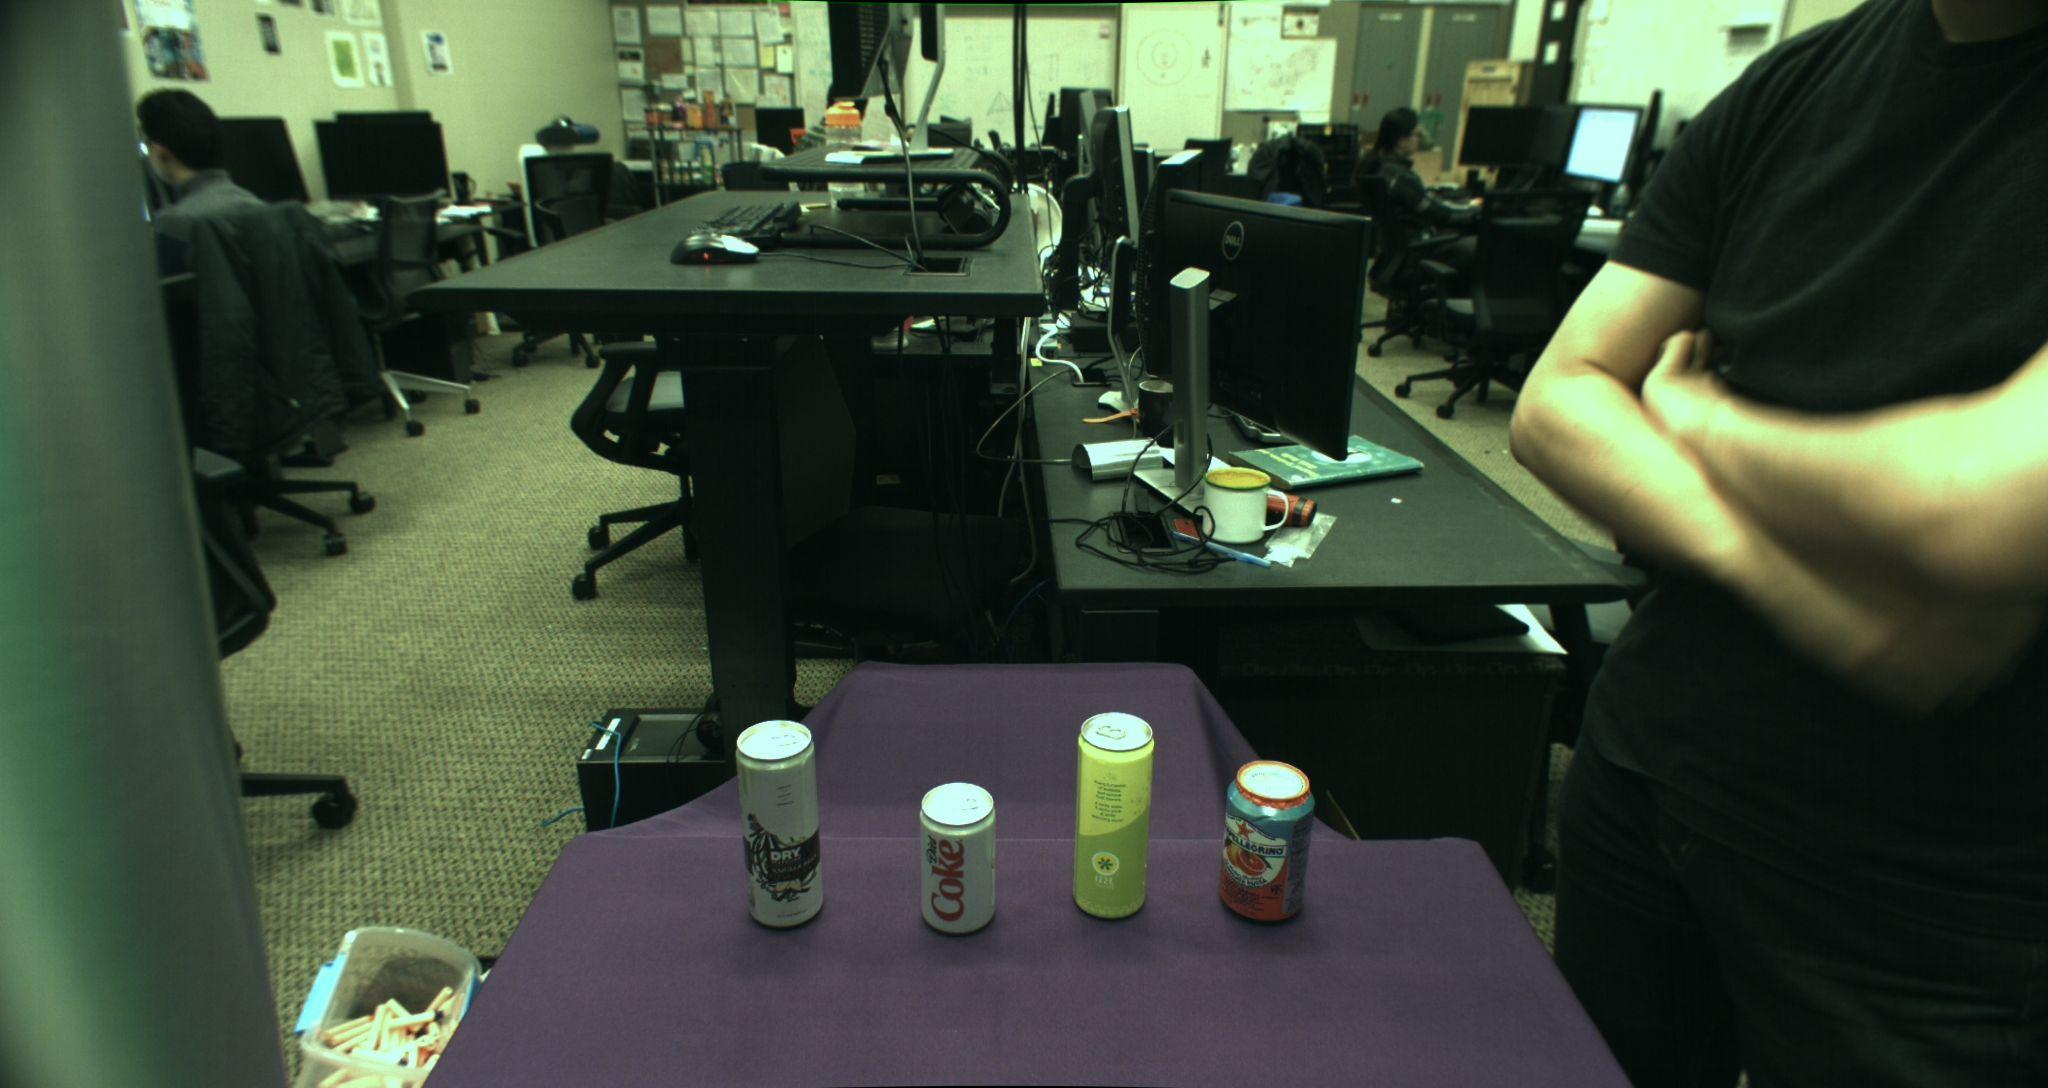can_diet_coke_small: (918, 780, 997, 934)
can_dry_sparkling_vanilla_bean: (734, 719, 826, 929)
can_izze_fusions_lemon_lime: (1071, 711, 1154, 921)
can_sanpellegrino_blood_orange: (1219, 757, 1315, 923)
